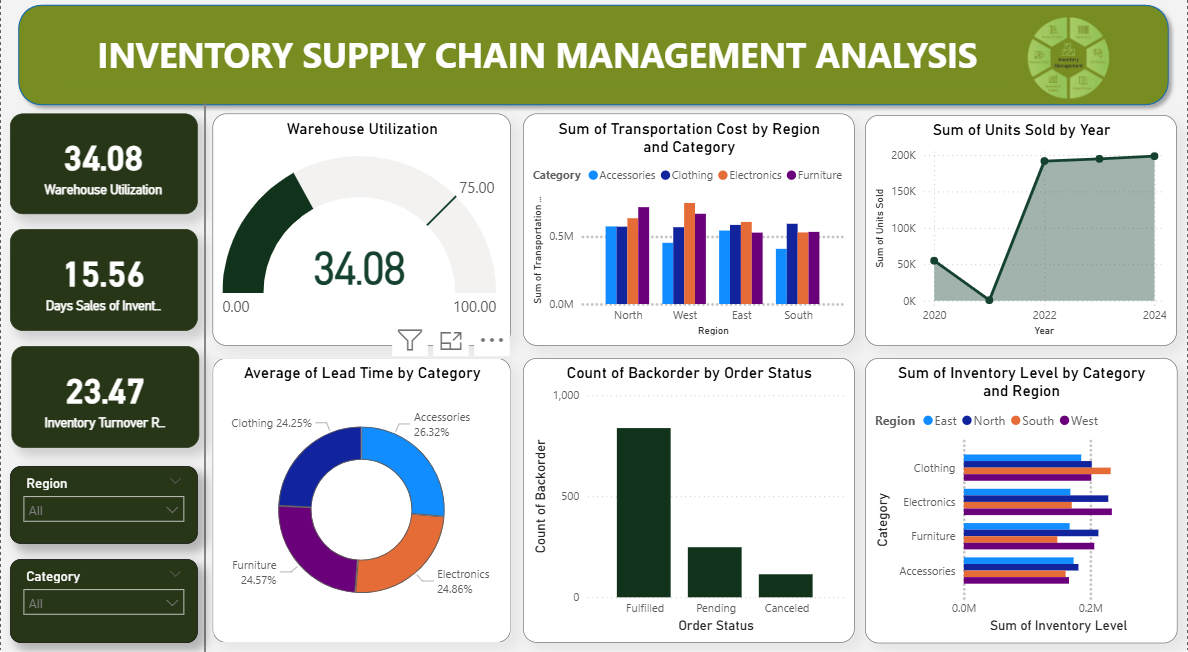

This screenshot's page, from the dashboard's own definition file:
{"tool":"powerbi","page":{"name":"Page 1","canvas":[1280,720],"ordinal":0},"visuals":[{"type":"shape","box":[9.7,11.3,1259.8,126.3],"z":0},{"type":"textbox","box":[71.2,43.7,1015.3,63.1],"z":1000},{"type":"image","box":[1065.5,17.8,173.3,119.8],"z":2000},{"type":"shape","box":[212.1,126.3,16.2,594.3],"z":3000},{"type":"card","fields":{"Values":["Inventory_SupplyChain_Dataset.Warehouse Utilization"]},"box":[9.7,137.6,202.4,108.5],"z":4000},{"type":"card","fields":{"Values":["Inventory_SupplyChain_Dataset.Days Sales of Inventory"]},"box":[9.7,262.3,202.4,110.1],"z":5000},{"type":"card","fields":{"Values":["Inventory_SupplyChain_Dataset.Inventory Turnover Ratio"]},"box":[11.3,388.6,202.4,110.1],"z":6000},{"type":"slicer","fields":{"Values":["Inventory_SupplyChain_Dataset.Region"]},"box":[9.7,518.2,202.4,84.2],"z":7000},{"type":"slicer","fields":{"Values":["Inventory_SupplyChain_Dataset.Category"]},"box":[9.7,618.5,202.4,90.7],"z":8000},{"type":"gauge","fields":{"Y":["Inventory_SupplyChain_Dataset.Warehouse Utilization"]},"box":[228.3,137.6,322.2,251],"z":9000},{"type":"clusteredColumnChart","fields":{"Y":["Sum(Inventory_SupplyChain_Dataset.Transportation Cost)"],"Category":["Inventory_SupplyChain_Dataset.Region"],"Series":["Inventory_SupplyChain_Dataset.Category"]},"box":[563.5,137.6,357.8,251],"z":10000},{"type":"lineChart","fields":{"Y":["Sum(Inventory_SupplyChain_Dataset.Units Sold)"],"Category":["Inventory_SupplyChain_Dataset.Date.Variation.Date Hierarchy.Year"]},"box":[932.7,139.3,336.8,249.4],"z":11000},{"type":"donutChart","title":"Average of Lead Time by Category","fields":{"Y":["Avg(Inventory_SupplyChain_Dataset.Lead Time (Days))"],"Category":["Inventory_SupplyChain_Dataset.Category"]},"box":[228.3,401.6,322.2,307.7],"z":12000},{"type":"columnChart","fields":{"Category":["Inventory_SupplyChain_Dataset.Order Status"],"Y":["CountNonNull(Inventory_SupplyChain_Dataset.Backorder)"]},"box":[563.5,401.6,357.8,307.7],"z":13000},{"type":"clusteredBarChart","fields":{"Category":["Inventory_SupplyChain_Dataset.Category"],"Y":["Sum(Inventory_SupplyChain_Dataset.Inventory Level)"],"Series":["Inventory_SupplyChain_Dataset.Region"]},"box":[933,402,337,308],"z":14000}]}

Visuals, with their boxes in screenshot pixels (x1, y1, x2, y2), scaled from the page's 1280x720 canvas onto the 1188x652 screenshot:
shape: Rect(9, 10, 1178, 125)
textbox: Rect(66, 40, 1008, 97)
image: Rect(989, 16, 1150, 125)
shape: Rect(197, 114, 212, 651)
card - Inventory_SupplyChain_Dataset.Warehouse Utilization: Rect(9, 125, 197, 223)
card - Inventory_SupplyChain_Dataset.Days Sales of Inventory: Rect(9, 238, 197, 337)
card - Inventory_SupplyChain_Dataset.Inventory Turnover Ratio: Rect(10, 352, 198, 452)
slicer - Inventory_SupplyChain_Dataset.Region: Rect(9, 469, 197, 546)
slicer - Inventory_SupplyChain_Dataset.Category: Rect(9, 560, 197, 642)
gauge - Inventory_SupplyChain_Dataset.Warehouse Utilization: Rect(212, 125, 511, 352)
clusteredColumnChart - Sum(Inventory_SupplyChain_Dataset.Transportation Cost) x Inventory_SupplyChain_Dataset.Region: Rect(523, 125, 855, 352)
lineChart - Sum(Inventory_SupplyChain_Dataset.Units Sold) x Inventory_SupplyChain_Dataset.Date.Variation.Date Hierarchy.Year: Rect(866, 126, 1178, 352)
"Average of Lead Time by Category" donutChart: Rect(212, 364, 511, 642)
columnChart - Inventory_SupplyChain_Dataset.Order Status x CountNonNull(Inventory_SupplyChain_Dataset.Backorder): Rect(523, 364, 855, 642)
clusteredBarChart - Inventory_SupplyChain_Dataset.Category x Sum(Inventory_SupplyChain_Dataset.Inventory Level): Rect(866, 364, 1179, 643)
